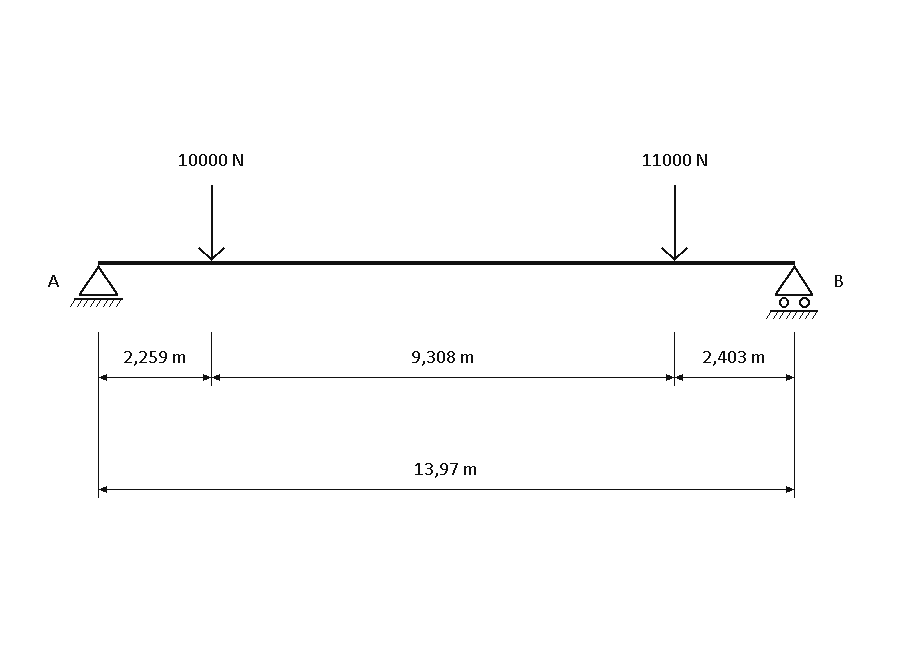pin_support: (70, 265, 123, 307)
point_load: (198, 185, 225, 261), (661, 185, 688, 261)
roller_support: (766, 265, 818, 319)
